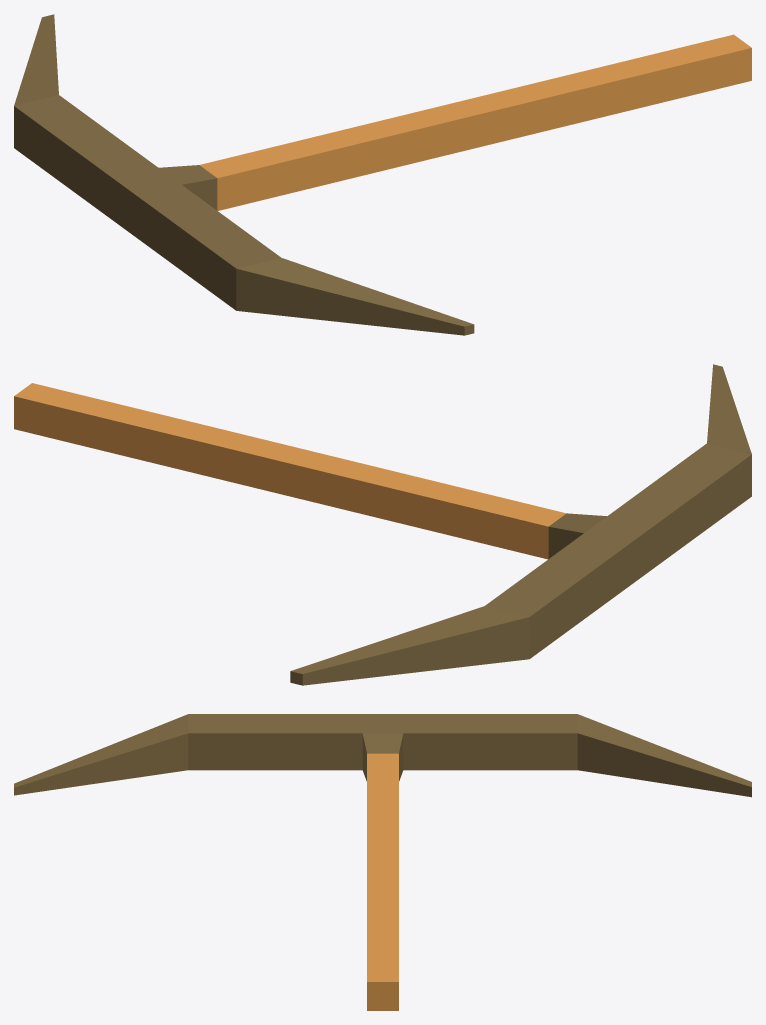
The model's file is bronze_pickaxe.glb.
3 views of the same model, one above another, from view 1: azimuth 30°, elevation 25°; view 2: azimuth 150°, elevation 25°; view 3: azimuth 270°, elevation 25° (orthographic). The views are drawn at different scales.
Visible parts, largest first — view 1: Cube; view 2: Cube; view 3: Cube.
Part boxes in pixels (x1=…): Cube: x1=14, y1=14, x2=751, y2=335; Cube: x1=14, y1=364, x2=751, y2=685; Cube: x1=14, y1=714, x2=751, y2=1010.
Size of the model in its own units: 16.03 by 1.05 by 18.94.
